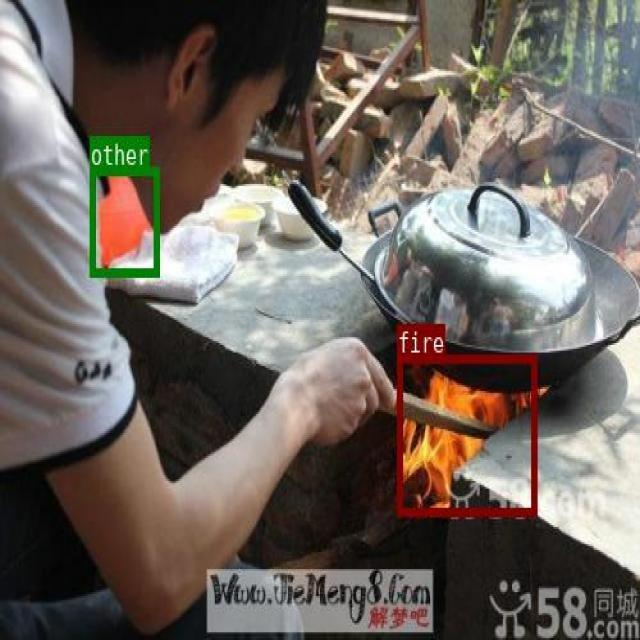fire: (396, 354, 536, 514)
